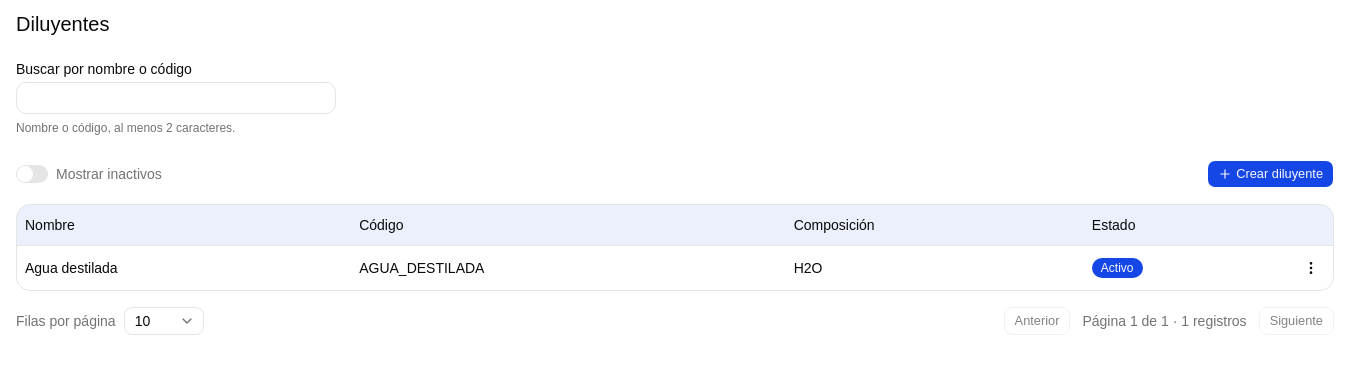
Test case: DiluentListPage — acciones por rol › con ADMIN, una fila activa ofrece «Editar» y «Dar de baja», no «Ver auditoría»
Expected: the button "Crear diluyente" is shown, [1207, 160, 1334, 188]
Click the button named "Acciones del diluyente": [1311, 268] box [1297, 254, 1325, 282]
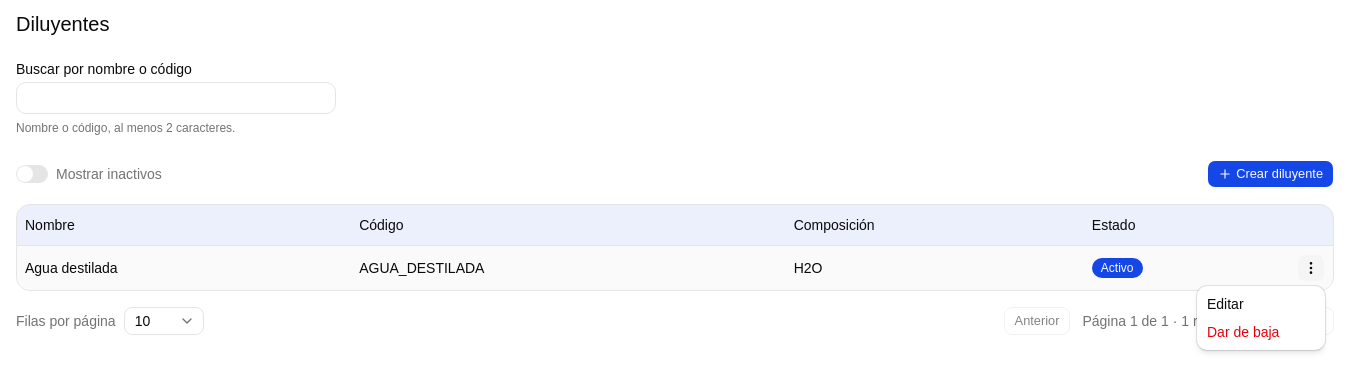
Now the menu item "Editar" is shown, box [1207, 296, 1244, 312]
Now the menu item "Dar de baja" is shown, box [1207, 324, 1279, 340]
